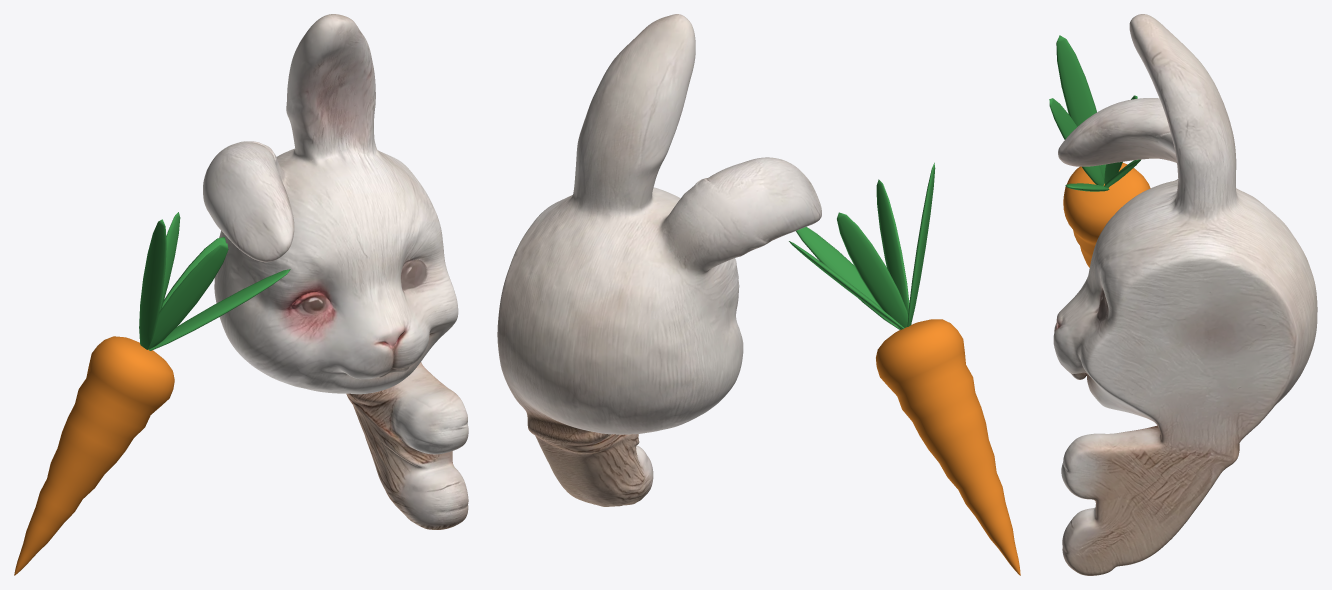
File: conejo_asomado.glb
3 views of the same model, side by side, from view 1: azimuth 30°, elevation 25°; view 2: azimuth 150°, elevation 25°; view 3: azimuth 270°, elevation 25° (orthographic). The views are drawn at different scales.
Parts seen in each view (by area): view 1: model, Zanahoria_Cuerpo, Hoja_0, Hoja_4, Hoja_1, Hoja_3; view 2: model, Zanahoria_Cuerpo, Hoja_3, Hoja_0, Hoja_1, Hoja_4, Hoja_2; view 3: model, Zanahoria_Cuerpo, Hoja_4, Hoja_0.
Part boxes in pixels (box(x1,y1,x2,y2)): model: box(203, 14, 468, 529); Zanahoria_Cuerpo: box(14, 336, 174, 575); Hoja_0: box(148, 243, 228, 349); Hoja_4: box(139, 219, 166, 349); Hoja_1: box(149, 269, 290, 350); Hoja_3: box(159, 212, 180, 311); model: box(497, 14, 821, 506); Zanahoria_Cuerpo: box(876, 319, 1020, 575); Hoja_3: box(837, 212, 908, 329); Hoja_0: box(876, 179, 909, 314); Hoja_1: box(796, 227, 900, 329); Hoja_4: box(907, 162, 935, 326); Hoja_2: box(789, 241, 904, 329); model: box(1053, 14, 1317, 575); Zanahoria_Cuerpo: box(1063, 163, 1150, 267); Hoja_4: box(1056, 35, 1106, 180); Hoja_0: box(1049, 98, 1104, 185).
Size of the model in its own units: 1.75 by 2 by 0.9445.
Materials: 4 (2 with a texture image).
